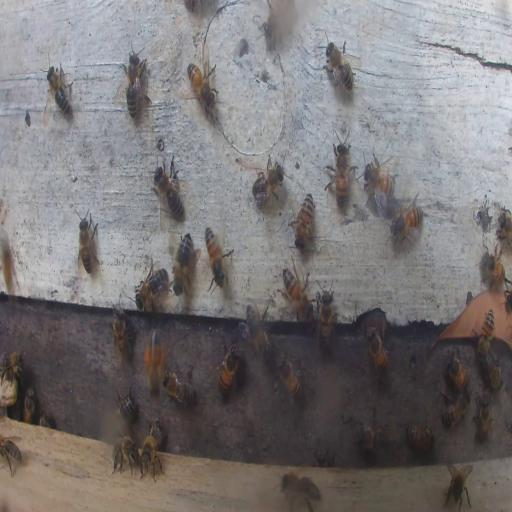nonpollenbee: (324, 123, 352, 212), (360, 150, 398, 211), (154, 156, 184, 221), (122, 42, 147, 119), (250, 158, 286, 208), (323, 39, 355, 95), (187, 51, 217, 110), (203, 224, 230, 289), (281, 265, 313, 319), (242, 305, 273, 360), (389, 195, 422, 246), (134, 262, 169, 310), (356, 408, 389, 455), (172, 229, 196, 292), (275, 351, 303, 404), (443, 463, 473, 510), (46, 64, 73, 116), (110, 309, 135, 361), (291, 194, 315, 248), (141, 423, 164, 479), (78, 212, 98, 275), (216, 341, 240, 393), (112, 435, 140, 479), (280, 470, 321, 500), (318, 283, 336, 351), (365, 324, 389, 372), (163, 368, 194, 405), (440, 391, 470, 427), (471, 396, 492, 444), (0, 433, 23, 476), (445, 352, 469, 392), (480, 247, 504, 286), (404, 424, 436, 452), (479, 308, 495, 360), (1, 351, 23, 388), (116, 388, 134, 418), (22, 386, 36, 424), (498, 209, 512, 245), (488, 358, 502, 392), (505, 281, 512, 311), (41, 408, 51, 426)
pollenbee: (143, 328, 164, 395)
